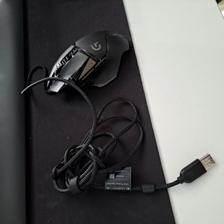mouse: (44, 29, 130, 98)
